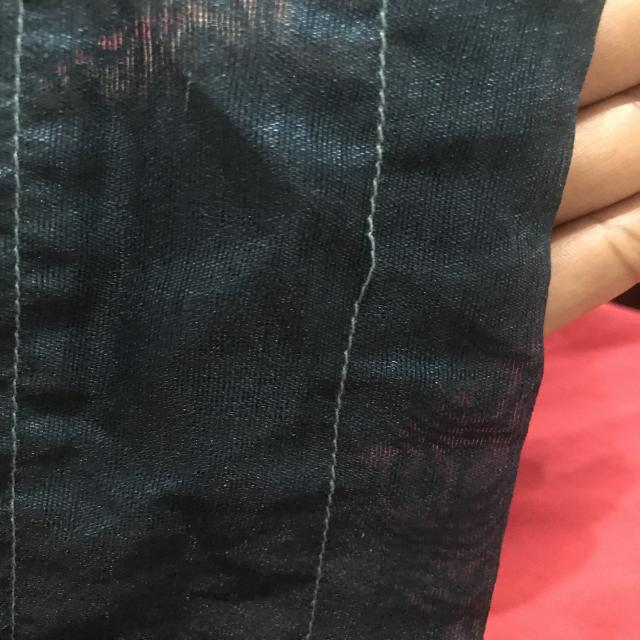good: (360, 51, 398, 169), (328, 364, 354, 487), (6, 323, 28, 438), (307, 528, 332, 607)
skip: (341, 220, 384, 311)
